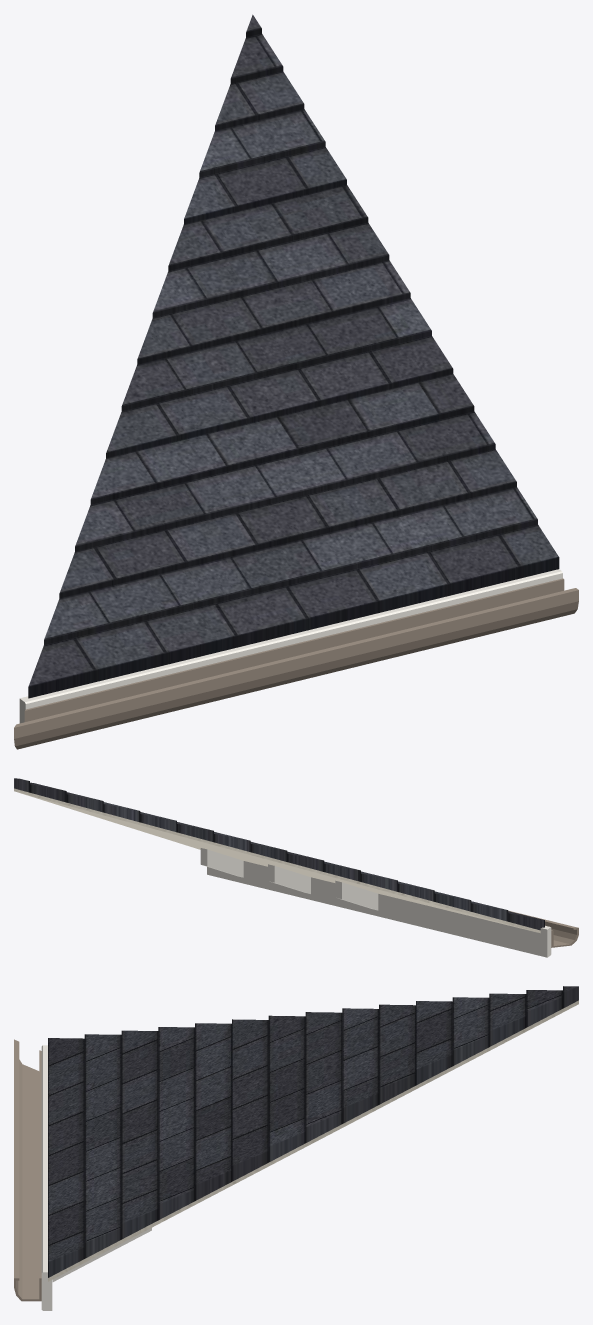
File: roof_main_6_l.glb
The picture shows the model from 3 angles, top to bottom: view 1: azimuth 30°, elevation 25°; view 2: azimuth 150°, elevation 25°; view 3: azimuth 270°, elevation 25°; orthographic projection. The views are drawn at different scales.
Visible parts, largest first — view 1: roof_main_6_l_shingles, roof_main_6_l_gutter, roof_main_6_l_trim; view 2: roof_main_6_l_trim, roof_main_6_l_shingles, roof_main_6_l_plaster, roof_main_6_l_gutter; view 3: roof_main_6_l_shingles, roof_main_6_l_gutter, roof_main_6_l_plaster, roof_main_6_l_trim.
Boxes of the visible parts, x1,y1,x2,y2 form: roof_main_6_l_shingles: (28,14,559,698); roof_main_6_l_gutter: (14,578,578,749); roof_main_6_l_trim: (19,569,562,723); roof_main_6_l_trim: (200,848,551,957); roof_main_6_l_shingles: (14,778,544,930); roof_main_6_l_plaster: (14,788,540,933); roof_main_6_l_gutter: (508,910,578,947); roof_main_6_l_shingles: (48,986,578,1277); roof_main_6_l_gutter: (14,1039,41,1301); roof_main_6_l_plaster: (48,1000,578,1281); roof_main_6_l_trim: (41,1045,151,1310).
Size of the model in its own units: 2.66 by 1.69 by 2.66.
4 materials, 2 textured.
